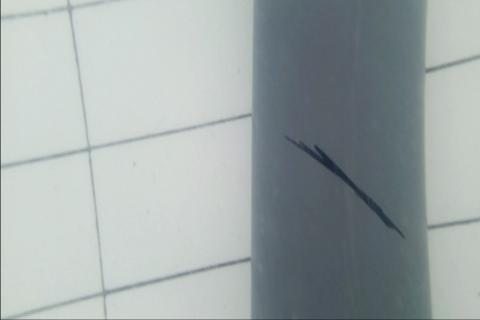keretakan: (283, 131, 407, 243)
